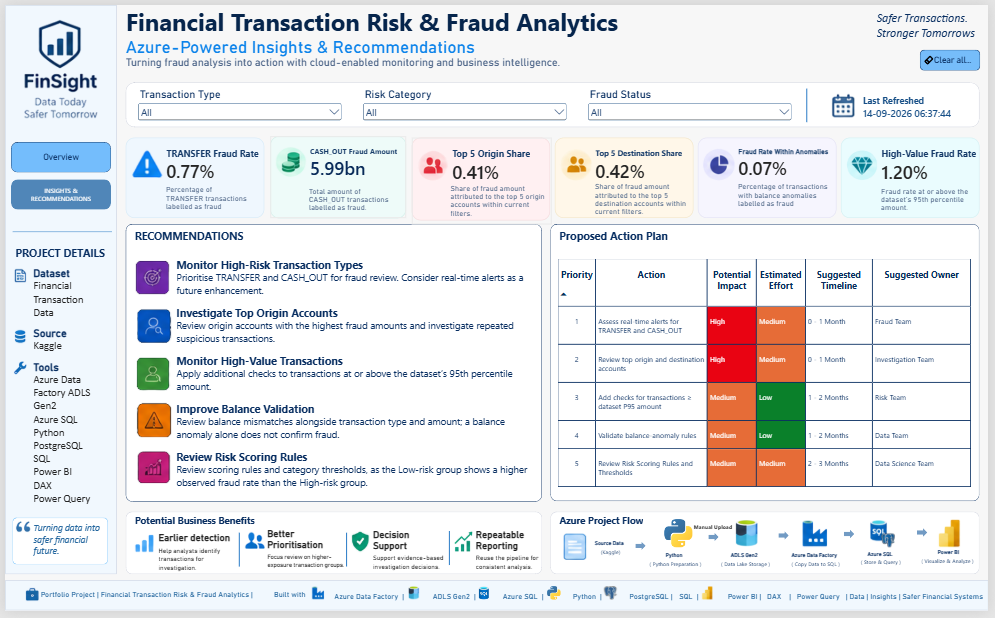

Layout of this report page (visuals, bound fields, positions):
{"tool":"powerbi","page":{"name":"INSIGHTS & RECOMMENDATIONS","canvas":[2200,1355],"ordinal":1},"visuals":[{"type":"shape","box":[270,173,1910,100],"z":0,"group":"g22"},{"type":"shape","box":[1220,1133.3,960,140],"z":0},{"type":"textbox","box":[586.2,1171.4,178.1,53.8],"z":0,"group":"g9"},{"type":"textbox","box":[822.3,1171.7,178.3,53.3],"z":0,"group":"g10"},{"type":"textbox","box":[1052.6,1171.7,179.6,53.3],"z":0,"group":"g11"},{"type":"image","box":[1243.8,1178.8,65,63.8],"z":0},{"type":"shape","box":[0,0,250,1273.3],"z":1000},{"type":"slicer","fields":{"Values":["transactions.type"]},"box":[292.9,186.3,464.3,72.9],"z":1000,"group":"g22"},{"type":"textbox","box":[1306.2,1186.2,96.2,50],"z":1000},{"type":"textbox","box":[822.3,1225,188.3,48.3],"z":1000,"group":"g10"},{"type":"textbox","box":[1052.6,1225,189.7,48.3],"z":1000,"group":"g11"},{"type":"textbox","box":[586.1,1225.1,184.3,50],"z":1000,"group":"g9"},{"type":"slicer","fields":{"Values":["transactions.risk_category"]},"box":[796,187,464,72],"z":2000,"group":"g22"},{"type":"image","box":[1777.1,1150,72,63.8],"z":2000,"group":"g21"},{"type":"image","box":[535.7,1174.2,44.9,48.8],"z":2000,"group":"g9"},{"type":"image","box":[771.7,1174.5,45,48.3],"z":2000,"group":"g10"},{"type":"image","box":[1001.7,1174.5,45.3,48.3],"z":2000,"group":"g11"},{"type":"shape","box":[1410,1198.8,23.8,20],"z":2000},{"type":"slicer","fields":{"Values":["transactions.isfraud"]},"box":[1300,186.3,464.3,72.9],"z":3000,"group":"g22"},{"type":"cardVisual","fields":{"Data":["_measure 1.High Value Fraud Rate"]},"box":[1870,296.2,310,180],"z":3000,"group":"g14"},{"type":"textbox","box":[1745.7,1211.9,133.8,48.8],"z":3000,"group":"g21"},{"type":"cardVisual","fields":{"Data":["_measure 1.Last Refresh Table"]},"box":[1903.3,196.3,256.7,63.3],"z":4000,"group":"g22"},{"type":"shape","box":[1776.7,186.3,34,76],"z":5000,"group":"g22"},{"type":"cardVisual","fields":{"Data":["_measure 1.Anomaly Fraud Rate"]},"box":[1550,296.2,310,180],"z":5000,"group":"g15"},{"type":"shape","box":[0,1287.5,2200,67.5],"z":5000},{"type":"textbox","box":[270,0,1140,147.5],"z":6000},{"type":"image","box":[1841.7,193,66.7,63.3],"z":6000,"group":"g22"},{"type":"cardVisual","fields":{"Data":["_measure 1.Top 5 Destination Fraud %"]},"box":[1230,297.6,310,180],"z":7000,"group":"g16"},{"type":"image","box":[40,1304.3,42,30],"z":7000},{"type":"cardVisual","fields":{"Data":["_measure 1.Top 5 Origin Fraud %"]},"box":[910,296.7,309.2,185],"z":8000,"group":"g17"},{"type":"textbox","box":[81.7,1304.4,600,40],"z":8000},{"type":"cardVisual","fields":{"Data":["_measure 1.CashOut Fraud Rate"]},"box":[594,291.8,304,184],"z":9000,"group":"g18"},{"type":"group","id":"g1","title":"Group 4","box":[679.7,1299.4,220,40],"z":9000},{"type":"cardVisual","fields":{"Data":["_measure 1.High Risk Fraud Rate"]},"box":[270,296.2,310,180],"z":10000,"group":"g19"},{"type":"group","id":"g2","title":"Group 4","box":[893.7,1299.4,168,42],"z":10000},{"type":"group","id":"g3","title":"Group 4","box":[1049.7,1299.4,158,38],"z":11000},{"type":"textbox","box":[361.7,404.3,181.7,71.7],"z":12000,"group":"g19"},{"type":"group","id":"g4","title":"Group 4","box":[1207.7,1299.4,140,36],"z":12000},{"type":"group","id":"g5","title":"Group 4","box":[1333.7,1299.4,228,42],"z":13000},{"type":"group","id":"g6","title":"Group 4","box":[1551.7,1298.5,646,48],"z":14000},{"type":"image","box":[13.3,30,223.3,233.3],"z":15000},{"type":"shape","box":[268.9,491.5,931.2,621.2],"z":16000,"group":"g13"},{"type":"shape","box":[15,492.5,222.5,27.5],"z":16000},{"type":"textbox","box":[64,588,176,628],"z":17000},{"type":"textbox","box":[22,538,208,50],"z":18000},{"type":"textbox","box":[382.7,554,802.5,530],"z":18000,"group":"g13"},{"type":"image","box":[13.9,588.3,41.7,30],"z":19000},{"type":"image","box":[287.1,571,87,78],"z":20000,"group":"g13"},{"type":"image","box":[13.3,726.7,41.7,30],"z":20000},{"type":"image","box":[13.3,796.7,41.7,30],"z":21000},{"type":"image","box":[288.1,680,87,78],"z":22000,"group":"g13"},{"type":"shape","box":[16.2,1145,213.7,105],"z":22000},{"type":"textbox","box":[63.8,1156.2,163.8,87.5],"z":23000},{"type":"image","box":[286.8,787.9,87,78],"z":24000,"group":"g13"},{"type":"image","box":[22.5,1152.5,35,28.7],"z":24000},{"type":"group","id":"g7","title":"Group 1","box":[270,173,1910,100],"z":25000},{"type":"image","box":[288.1,893,87,78],"z":26000,"group":"g13"},{"type":"shape","box":[270,1132.9,931.7,140],"z":26000},{"type":"shape","box":[510,1178.3,28.3,76.7],"z":27000},{"type":"image","box":[288.1,999,87,78],"z":28000,"group":"g13"},{"type":"group","id":"g8","title":"Group 2","box":[288.3,1178.3,233.8,88.1],"z":28000},{"type":"group","id":"g9","title":"Group 3","box":[535.7,1171.4,234.7,103.7],"z":29000},{"type":"shape","box":[1218.9,491.5,960,620],"z":30000,"group":"g12"},{"type":"group","id":"g10","title":"Group 3","box":[771.7,1171.7,238.3,101.7],"z":30000},{"type":"group","id":"g11","title":"Group 3","box":[1001.7,1171.7,240,101.7],"z":31000},{"type":"tableEx","fields":{"Values":["ACTION PLAN.Priority","ACTION PLAN.Action","ACTION PLAN.Impact","ACTION PLAN.Effort","ACTION PLAN.Timeline","ACTION PLAN.Owner"]},"box":[1218.9,554.8,960,556.7],"z":32000,"group":"g12"},{"type":"shape","box":[750,1178.6,28.3,76.7],"z":32000},{"type":"shape","box":[978.3,1175,28.3,76.7],"z":33000},{"type":"image","box":[1625.4,1151.4,72,63.8],"z":35000,"group":"g20"},{"type":"textbox","box":[1601.4,1213.3,113.8,48.8],"z":36000,"group":"g20"},{"type":"image","box":[1925.6,1150.3,72,63.8],"z":38000},{"type":"textbox","box":[1889.1,1216,138.8,41.2],"z":39000},{"type":"image","box":[2075,1150.7,72,63],"z":41000},{"type":"textbox","box":[2050.8,1214.7,121.2,43.8],"z":42000},{"type":"group","id":"g12","title":"Group 6","box":[1218.9,491.5,960,620],"z":43000},{"type":"group","id":"g13","title":"Group 7","box":[268.9,491.5,931.2,621.2],"z":44000},{"type":"group","id":"g14","title":"Group 8","box":[1870,296.2,310,184.6],"z":45000},{"type":"textbox","box":[681.7,404.3,181.7,71.7],"z":45000,"group":"g18"},{"type":"textbox","box":[340,1178.3,171.7,38.3],"z":45000,"group":"g8"},{"type":"group","id":"g15","title":"Group 9","box":[1550,296.2,310,181.4],"z":46000},{"type":"textbox","box":[998,401.4,226,90],"z":46000,"group":"g17"},{"type":"group","id":"g16","title":"Group 10","box":[1230,297.6,318,184.7],"z":47000},{"type":"textbox","box":[1320,396.3,228,86],"z":47000,"group":"g16"},{"type":"textbox","box":[340.7,1207.8,181.4,58.6],"z":47000,"group":"g8"},{"type":"group","id":"g17","title":"Group 11","box":[910,296.7,314,194.7],"z":48000},{"type":"textbox","box":[1640,396.4,201.2,81.2],"z":48000,"group":"g15"},{"type":"group","id":"g18","title":"Group 12","box":[594,291.8,304,184.2],"z":49000},{"type":"textbox","box":[1960,405.8,213.3,75],"z":49000,"group":"g14"},{"type":"image","box":[288.3,1178.3,45,48.3],"z":49000,"group":"g8"},{"type":"image","box":[1551.7,1298.5,42,30],"z":49000,"group":"g6"},{"type":"image","box":[679.7,1299.4,42,30],"z":49000,"group":"g1"},{"type":"image","box":[893.7,1299.4,42,30],"z":49000,"group":"g2"},{"type":"image","box":[1049.7,1299.4,42,30],"z":49000,"group":"g3"},{"type":"image","box":[1207.7,1299.4,42,30],"z":49000,"group":"g4"},{"type":"image","box":[1333.7,1299.4,42,30],"z":49000,"group":"g5"},{"type":"group","id":"g19","title":"Group 13","box":[270,296.2,310,180],"z":50000},{"type":"textbox","box":[1617.7,1310.5,580,36],"z":50000,"group":"g6"},{"type":"textbox","box":[737.7,1311.4,162,28],"z":50000,"group":"g1"},{"type":"textbox","box":[957.7,1311.4,104,30],"z":50000,"group":"g2"},{"type":"textbox","box":[1111.7,1311.4,96,26],"z":50000,"group":"g3"},{"type":"textbox","box":[1269.7,1311.4,78,24],"z":50000,"group":"g4"},{"type":"textbox","box":[1395.7,1311.4,166,30],"z":50000,"group":"g5"},{"type":"pageNavigator","box":[14,308,224,68],"z":51000},{"type":"pageNavigator","box":[14,390,224,68],"z":52000},{"type":"textbox","box":[1948.3,11.7,232,88],"z":53000},{"type":"actionButton","box":[2045,100,135,46.7],"z":54000},{"type":"image","box":[1468.5,1151.3,72,63],"z":54001},{"type":"textbox","box":[1437.2,1212.7,126.2,48.8],"z":54002},{"type":"shape","box":[1572.5,1180,23.8,20],"z":54003},{"type":"shape","box":[1728.8,1176.2,23.8,20],"z":54004},{"type":"shape","box":[1875,1172.5,23.8,20],"z":54005},{"type":"shape","box":[2038.8,1171.2,23.8,20],"z":54006},{"type":"group","id":"g20","title":"Group 5","box":[1601.4,1151.4,112.9,111.4],"z":54007},{"type":"group","id":"g21","title":"Group 15","box":[1745.7,1150,132.9,111.4],"z":54008},{"type":"textbox","box":[1537.5,1157.5,94.3,18.6],"z":54009},{"type":"group","id":"g22","title":"Group 14","box":[270,173,1910,100],"z":58017,"group":"g7"}]}

Visuals, with their boxes in screenshot pixels (x1, y1, x2, y2), scaled from the page's 2200x1355 canvas onto the 995x618 screenshot:
shape: box=[122, 79, 986, 125]
shape: box=[552, 517, 986, 581]
textbox: box=[265, 534, 346, 559]
textbox: box=[372, 534, 453, 559]
textbox: box=[476, 534, 557, 559]
image: box=[563, 538, 592, 567]
shape: box=[0, 0, 113, 581]
slicer - transactions.type: box=[132, 85, 342, 118]
textbox: box=[591, 541, 634, 564]
textbox: box=[372, 559, 457, 581]
textbox: box=[476, 559, 562, 581]
textbox: box=[265, 559, 348, 582]
slicer - transactions.risk_category: box=[360, 85, 570, 118]
image: box=[804, 525, 836, 554]
image: box=[242, 536, 263, 558]
image: box=[349, 536, 369, 558]
image: box=[453, 536, 474, 558]
shape: box=[638, 547, 648, 556]
slicer - transactions.isfraud: box=[588, 85, 798, 118]
cardVisual - _measure 1.High Value Fraud Rate: box=[846, 135, 986, 217]
textbox: box=[790, 553, 850, 575]
cardVisual - _measure 1.Last Refresh Table: box=[861, 90, 977, 118]
shape: box=[804, 85, 819, 120]
cardVisual - _measure 1.Anomaly Fraud Rate: box=[701, 135, 841, 217]
shape: box=[0, 587, 994, 617]
textbox: box=[122, 0, 638, 67]
image: box=[833, 88, 863, 117]
cardVisual - _measure 1.Top 5 Destination Fraud %: box=[556, 136, 696, 218]
image: box=[18, 595, 37, 609]
cardVisual - _measure 1.Top 5 Origin Fraud %: box=[412, 135, 551, 220]
textbox: box=[37, 595, 308, 613]
cardVisual - _measure 1.CashOut Fraud Rate: box=[269, 133, 406, 217]
"Group 4" group: box=[307, 593, 407, 611]
cardVisual - _measure 1.High Risk Fraud Rate: box=[122, 135, 262, 217]
"Group 4" group: box=[404, 593, 480, 612]
"Group 4" group: box=[475, 593, 546, 610]
textbox: box=[164, 184, 246, 217]
"Group 4" group: box=[546, 593, 610, 609]
"Group 4" group: box=[603, 593, 706, 612]
"Group 4" group: box=[702, 592, 994, 614]
image: box=[6, 14, 107, 120]
shape: box=[122, 224, 543, 507]
shape: box=[7, 225, 107, 237]
textbox: box=[29, 268, 109, 555]
textbox: box=[10, 245, 104, 268]
textbox: box=[173, 253, 536, 494]
image: box=[6, 268, 25, 282]
image: box=[130, 260, 169, 296]
image: box=[6, 331, 25, 345]
image: box=[6, 363, 25, 377]
image: box=[130, 310, 170, 346]
shape: box=[7, 522, 104, 570]
textbox: box=[29, 527, 103, 567]
image: box=[130, 359, 169, 395]
image: box=[10, 526, 26, 539]
"Group 1" group: box=[122, 79, 986, 125]
image: box=[130, 407, 170, 443]
shape: box=[122, 517, 543, 581]
shape: box=[231, 537, 243, 572]
image: box=[130, 456, 170, 491]
"Group 2" group: box=[130, 537, 236, 578]
"Group 3" group: box=[242, 534, 348, 582]
shape: box=[551, 224, 985, 507]
"Group 3" group: box=[349, 534, 457, 581]
"Group 3" group: box=[453, 534, 562, 581]
tableEx - ACTION PLAN.Priority x ACTION PLAN.Action: box=[551, 253, 985, 507]
shape: box=[339, 538, 352, 573]
shape: box=[442, 536, 455, 571]
image: box=[735, 525, 768, 554]
textbox: box=[724, 553, 776, 576]
image: box=[871, 525, 903, 554]
textbox: box=[854, 555, 917, 573]
image: box=[938, 525, 971, 554]
textbox: box=[928, 554, 982, 574]
"Group 6" group: box=[551, 224, 985, 507]
"Group 7" group: box=[122, 224, 543, 507]
"Group 8" group: box=[846, 135, 986, 219]
textbox: box=[308, 184, 390, 217]
textbox: box=[154, 537, 231, 555]
"Group 9" group: box=[701, 135, 841, 218]
textbox: box=[451, 183, 554, 224]
"Group 10" group: box=[556, 136, 700, 220]
textbox: box=[597, 181, 700, 220]
textbox: box=[154, 551, 236, 578]
"Group 11" group: box=[412, 135, 554, 224]
textbox: box=[742, 181, 833, 218]
"Group 12" group: box=[269, 133, 406, 217]
textbox: box=[886, 185, 983, 219]
image: box=[130, 537, 151, 559]
image: box=[702, 592, 721, 606]
image: box=[307, 593, 326, 606]
image: box=[404, 593, 423, 606]
image: box=[475, 593, 494, 606]
image: box=[546, 593, 565, 606]
image: box=[603, 593, 622, 606]
"Group 13" group: box=[122, 135, 262, 217]
textbox: box=[732, 598, 994, 614]
textbox: box=[334, 598, 407, 611]
textbox: box=[433, 598, 480, 612]
textbox: box=[503, 598, 546, 610]
textbox: box=[574, 598, 610, 609]
textbox: box=[631, 598, 706, 612]
pageNavigator: box=[6, 140, 108, 171]
pageNavigator: box=[6, 178, 108, 209]
textbox: box=[881, 5, 986, 45]
actionButton: box=[925, 46, 986, 67]
image: box=[664, 525, 697, 554]
textbox: box=[650, 553, 707, 575]
shape: box=[711, 538, 722, 547]
shape: box=[782, 536, 793, 546]
shape: box=[848, 535, 859, 544]
shape: box=[922, 534, 933, 543]
"Group 5" group: box=[724, 525, 775, 576]
"Group 15" group: box=[790, 525, 850, 575]
textbox: box=[695, 528, 738, 536]
"Group 14" group: box=[122, 79, 986, 125]
